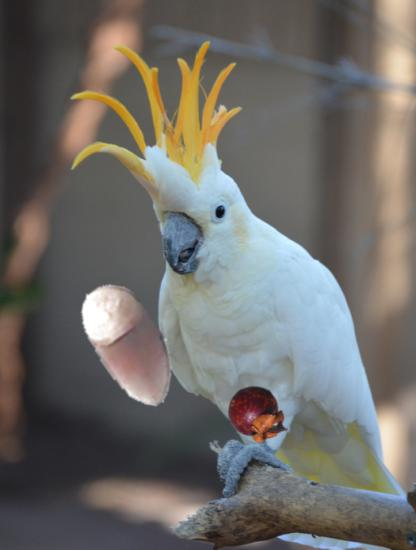Hazelnut: (63, 278, 197, 412)
Mangostan: (225, 384, 288, 447)
